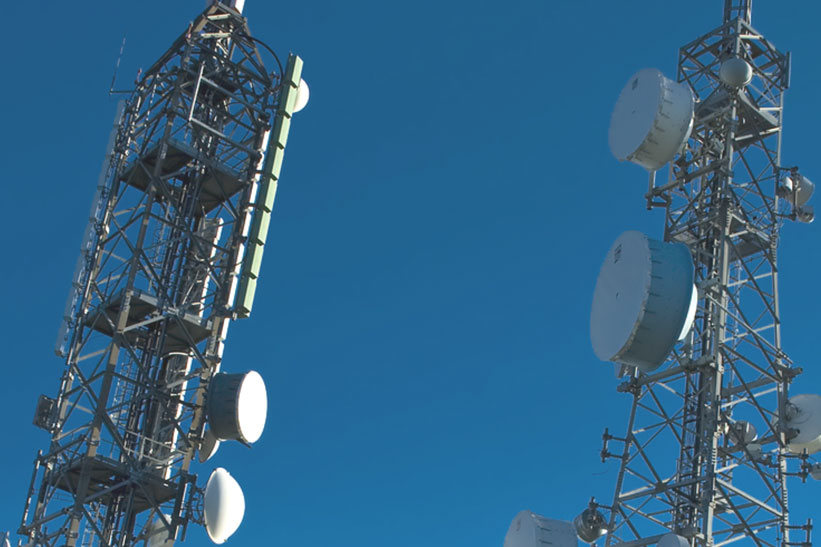ba: (576, 206, 697, 388), (615, 70, 701, 178), (209, 352, 278, 449)
